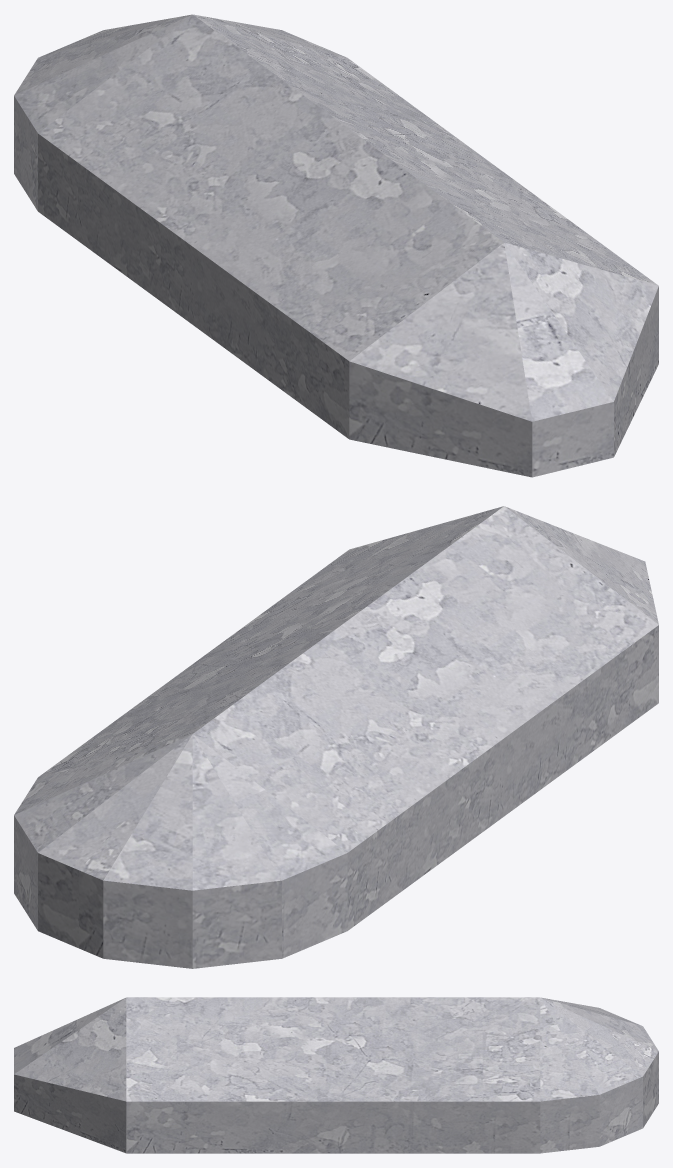
The model's file is Light.fbx.
3 views of the same model, one above another, from view 1: azimuth 30°, elevation 25°; view 2: azimuth 150°, elevation 25°; view 3: azimuth 270°, elevation 25° (orthographic). The views are drawn at different scales.
Visible parts, largest first — view 1: Component_1_1; view 2: Component_1_1; view 3: Component_1_1.
Boxes of the visible parts, box(x1,y1,x2,y2) form: Component_1_1: box(14, 14, 658, 477); Component_1_1: box(14, 506, 658, 968); Component_1_1: box(14, 997, 658, 1153).
Size of the model in its own units: 34.44 by 16.94 by 93.52.
